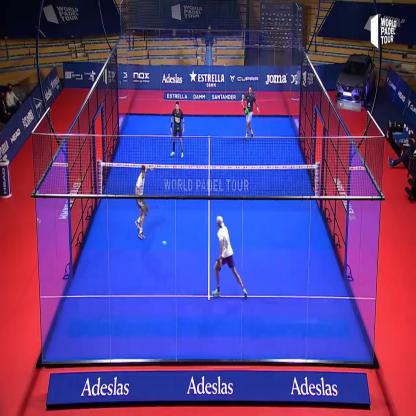ball: (161, 235, 168, 248)
